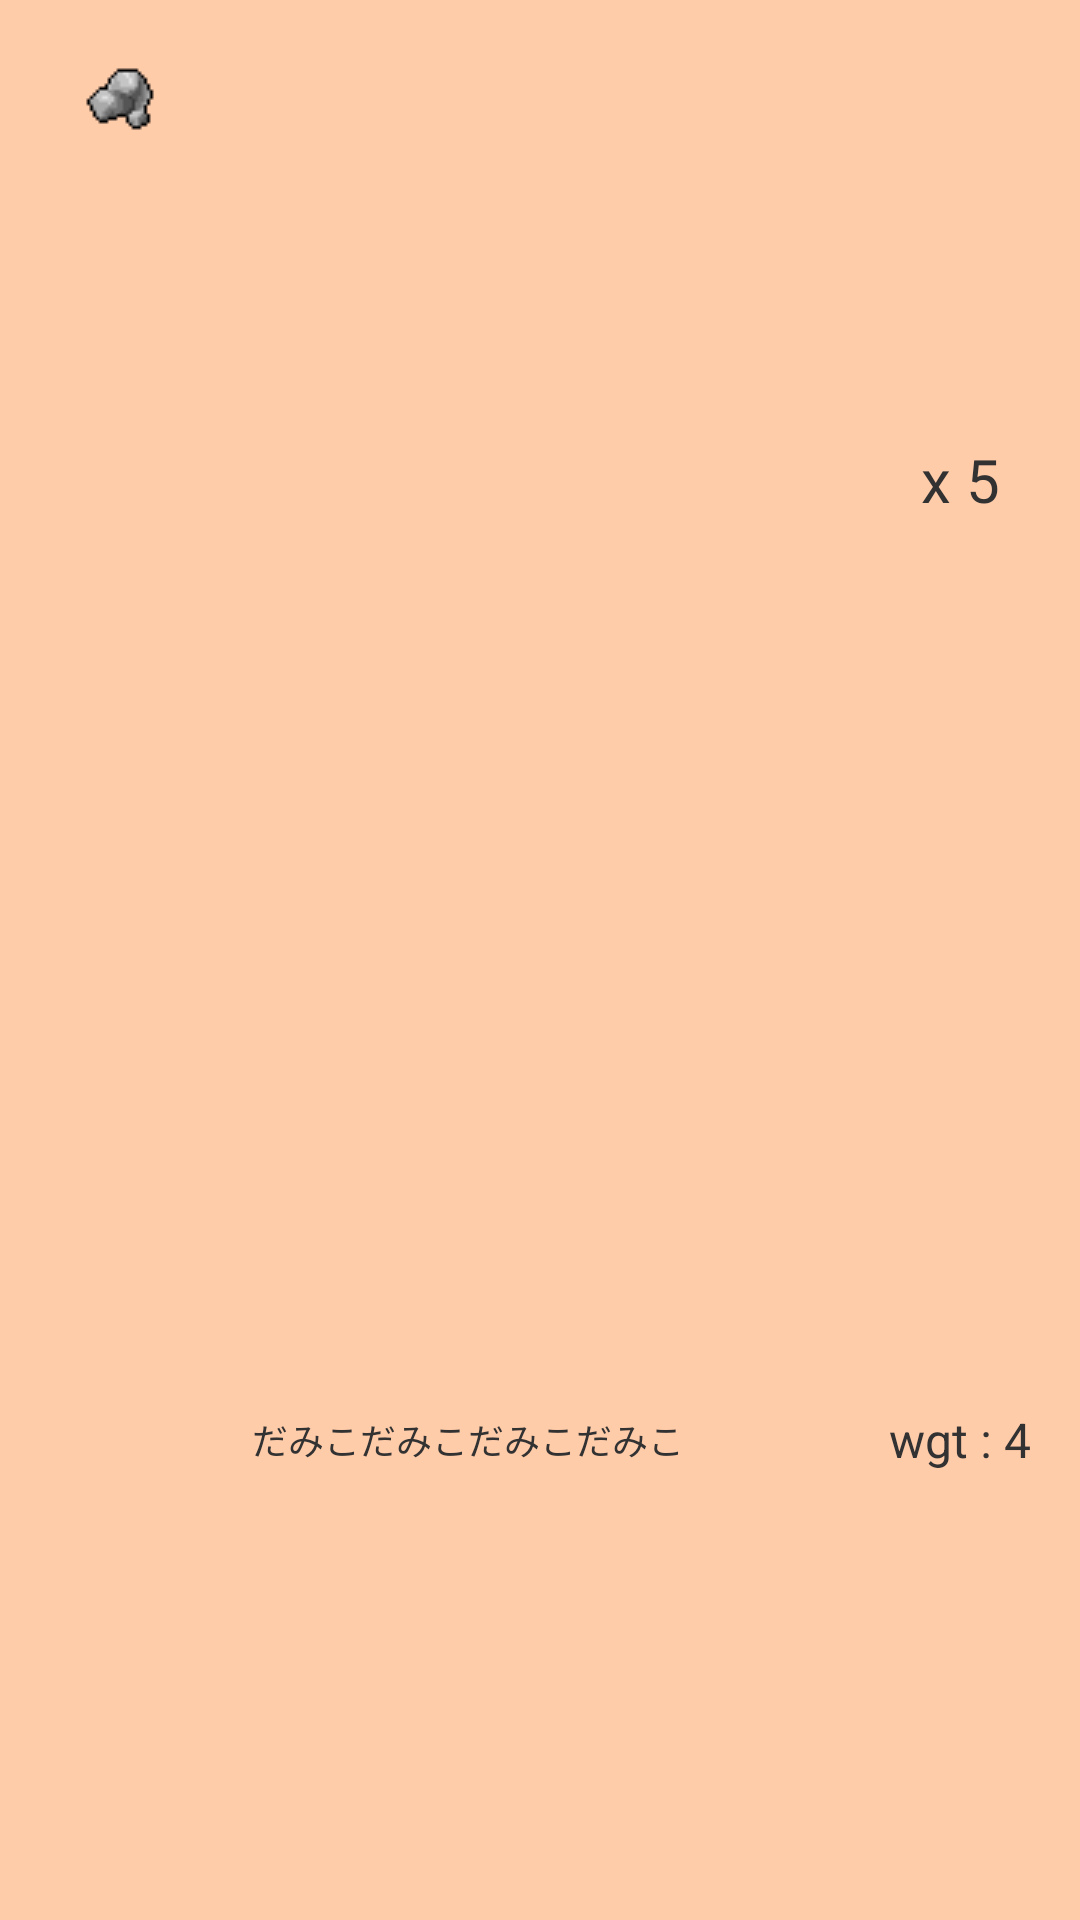

Point at icon controls on the screen. Image size 1080px x 1920px, points as (x=x, y=y).
stone: (x=120, y=99)
